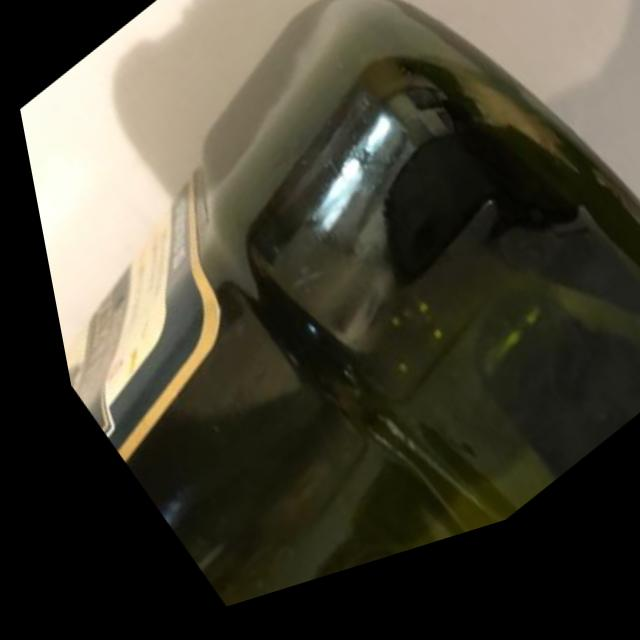plastic: (5, 0, 640, 640)
